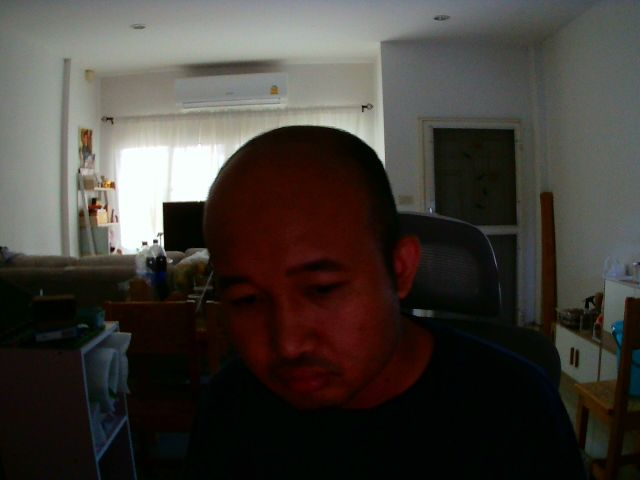face: (198, 122, 404, 415)
